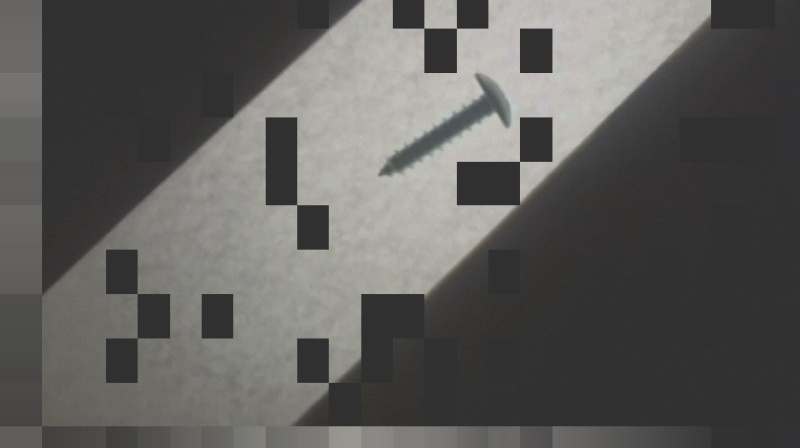S003: (373, 70, 517, 178)
